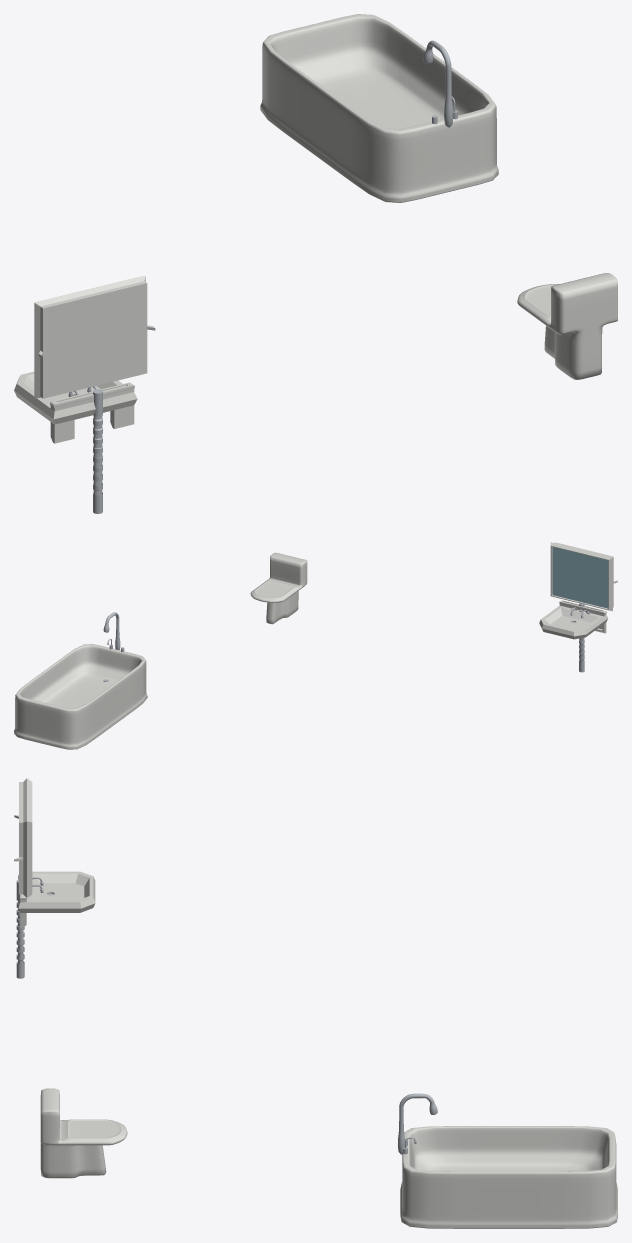
Rendered from furniture_bath_f1.glb.
The picture shows the model from 3 angles, top to bottom: view 1: azimuth 30°, elevation 25°; view 2: azimuth 150°, elevation 25°; view 3: azimuth 270°, elevation 25°; orthographic projection. The views are drawn at different scales.
Parts seen in each view (by area): view 1: FURN_tub, FURN_mirror, FURN_toilet, FURN_sink, FURN_pipe, FURN_tub_shower; view 2: FURN_tub, FURN_mirror, FURN_toilet, FURN_sink; view 3: FURN_tub, FURN_toilet, FURN_sink, FURN_mirror.
Boxes of the visible parts, bbox=[...] form: FURN_tub: bbox=[260, 14, 498, 202]; FURN_mirror: bbox=[34, 275, 155, 398]; FURN_toilet: bbox=[517, 273, 617, 379]; FURN_sink: bbox=[14, 371, 137, 443]; FURN_pipe: bbox=[93, 389, 102, 513]; FURN_tub_shower: bbox=[423, 40, 453, 128]; FURN_tub: bbox=[14, 644, 147, 749]; FURN_mirror: bbox=[550, 542, 617, 611]; FURN_toilet: bbox=[250, 552, 307, 624]; FURN_sink: bbox=[539, 600, 608, 639]; FURN_tub: bbox=[400, 1126, 617, 1228]; FURN_toilet: bbox=[40, 1088, 127, 1178]; FURN_sink: bbox=[18, 871, 95, 928]; FURN_mirror: bbox=[14, 778, 32, 897].
Bounding box in the file's own units: 6.96 × 2.07 × 6.44.
